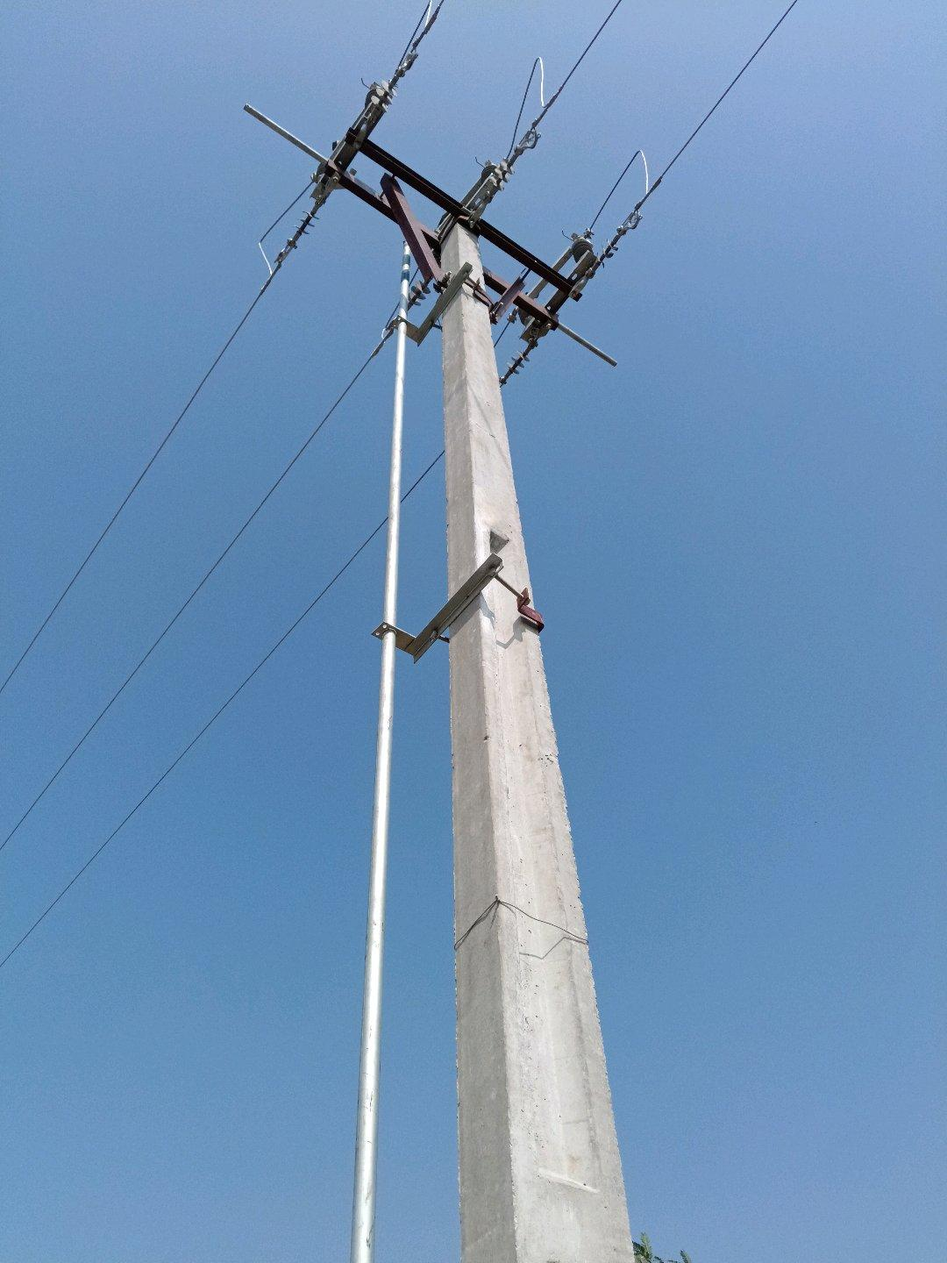{"0" "insulator", "1" "pole", "2" "crossarm", "3" "conductor", "4" "street_: (245, 55, 737, 1262), (375, 618, 382, 647), (585, 45, 590, 53), (741, 66, 744, 72), (307, 212, 310, 217), (621, 177, 624, 182), (607, 197, 609, 202), (395, 309, 396, 318), (592, 40, 594, 42), (615, 188, 616, 190)
